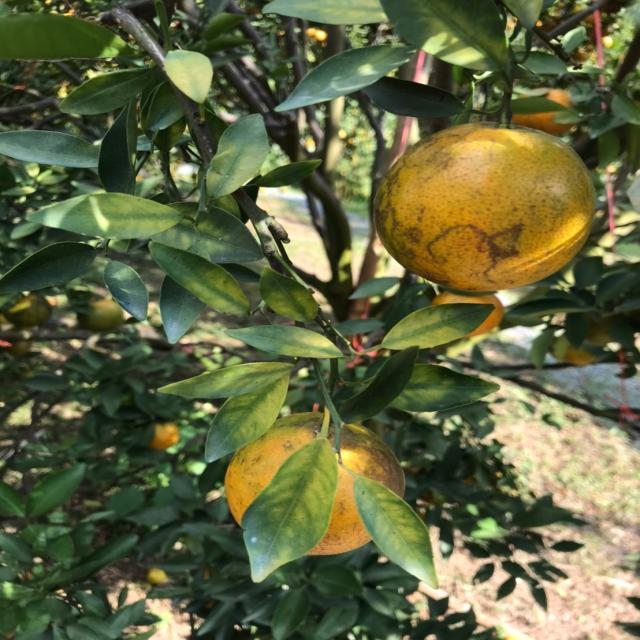blackspot: (237, 440, 342, 569), (359, 488, 435, 576), (45, 194, 184, 240), (196, 384, 285, 455), (164, 361, 293, 400), (165, 252, 244, 312), (394, 304, 488, 350), (244, 326, 337, 358), (104, 268, 140, 306)
